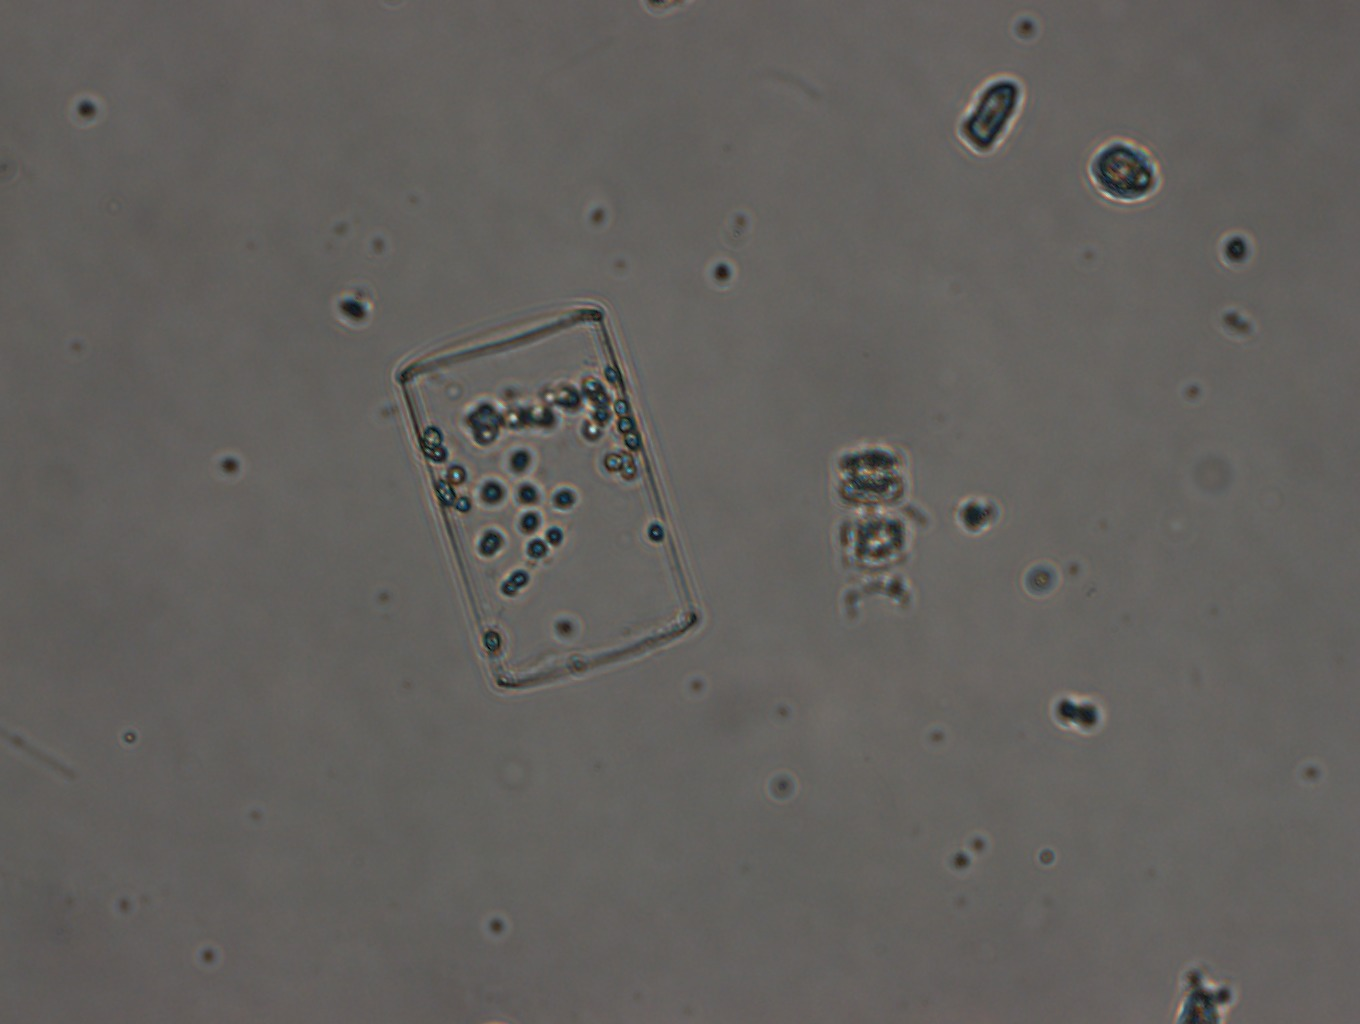guinardia flaccida: (392, 301, 712, 691)
